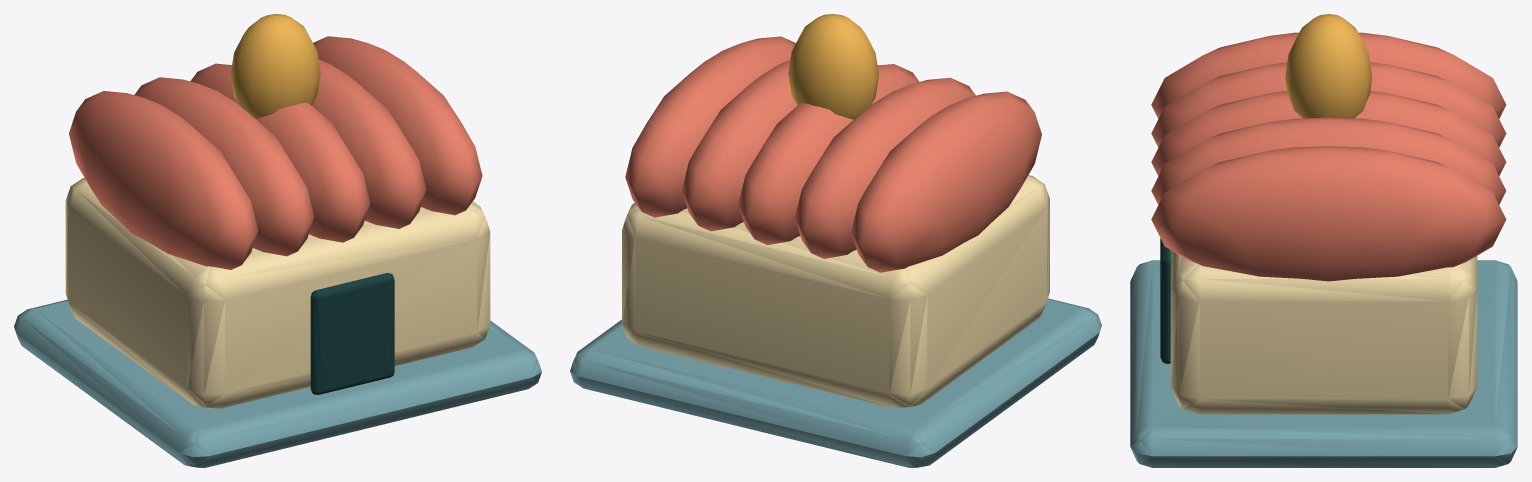
The model's file is DW_RoostHeart.fbx.
The picture shows the model from 3 angles, left to right: view 1: azimuth 30°, elevation 25°; view 2: azimuth 150°, elevation 25°; view 3: azimuth 270°, elevation 25°; orthographic projection. The views are drawn at different scales.
Visible parts, largest first — view 1: RoostHeart; view 2: RoostHeart; view 3: RoostHeart.
Part boxes in pixels (x1,y1,x2,y2): RoostHeart: (14, 14, 541, 467); RoostHeart: (570, 14, 1101, 467); RoostHeart: (1130, 14, 1517, 467).
Size of the model in its own units: 2.7 by 2.51 by 2.4.
